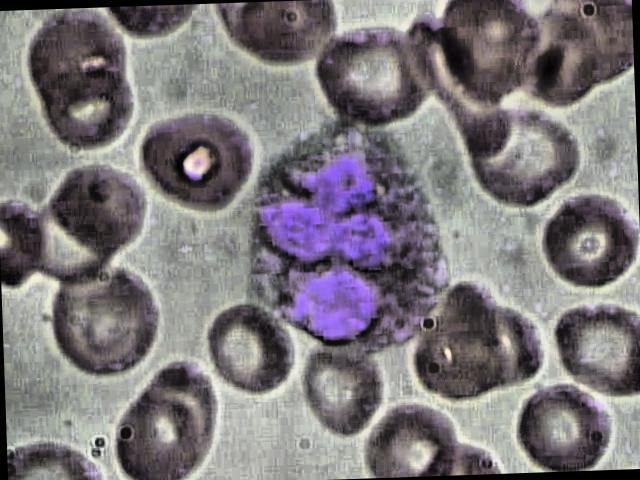RBC: (126, 101, 271, 220), (36, 259, 172, 378), (306, 26, 441, 126), (533, 187, 640, 304), (498, 375, 618, 474), (468, 105, 578, 208), (109, 386, 219, 480), (550, 299, 640, 403), (203, 301, 300, 396), (305, 344, 389, 440)
WBC: (232, 122, 457, 358)
